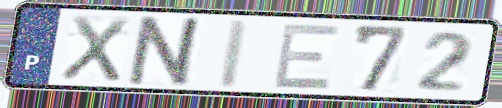2: (414, 30, 476, 94)
7: (352, 23, 412, 93)
E: (270, 22, 343, 92)
I: (214, 17, 253, 90)
N: (123, 14, 209, 89)
X: (57, 13, 132, 85)
